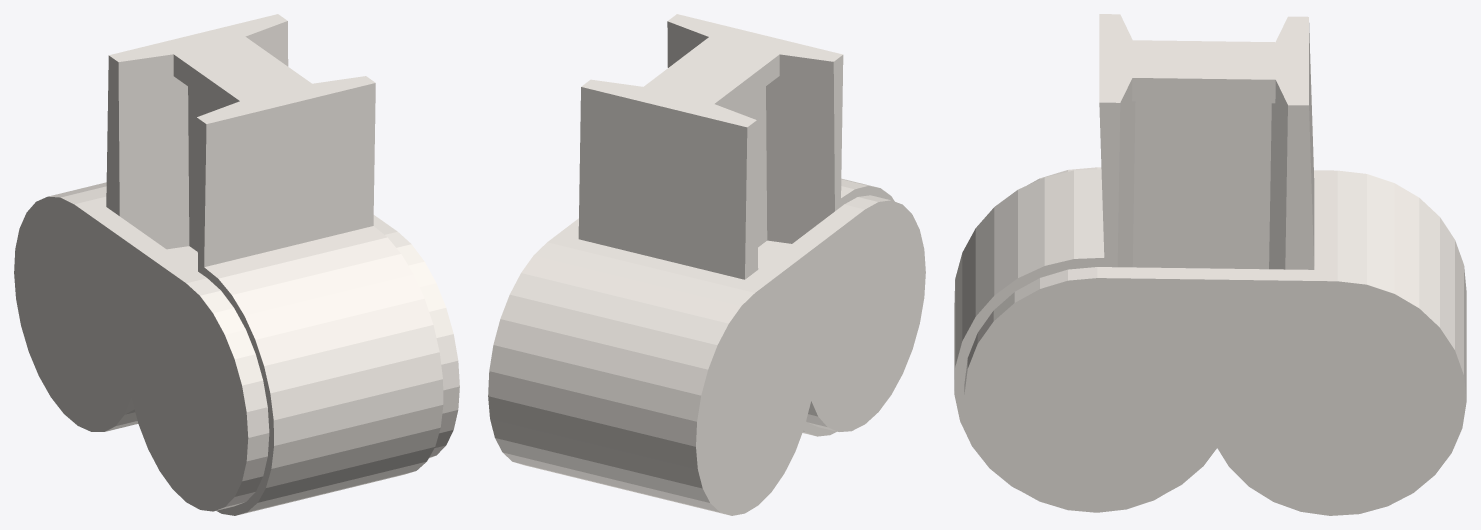
File: cotton.dae
3 views of the same model, side by side, from view 1: azimuth 30°, elevation 25°; view 2: azimuth 150°, elevation 25°; view 3: azimuth 270°, elevation 25° (orthographic). The views are drawn at different scales.
Parts seen in each view (by area): view 1: Cotton module; view 2: Cotton module; view 3: Cotton module.
Boxes of the visible parts, x1=… form: Cotton module: x1=14, y1=14, x2=459, y2=515; Cotton module: x1=488, y1=14, x2=925, y2=515; Cotton module: x1=954, y1=14, x2=1466, y2=515.
Size of the model in its own units: 0.05 by 0.0977 by 0.086.
1 material, 1 textured.
